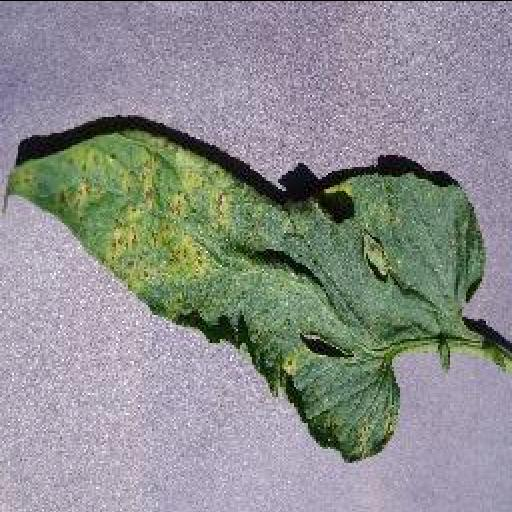disease_tomato: (4, 126, 488, 464)
